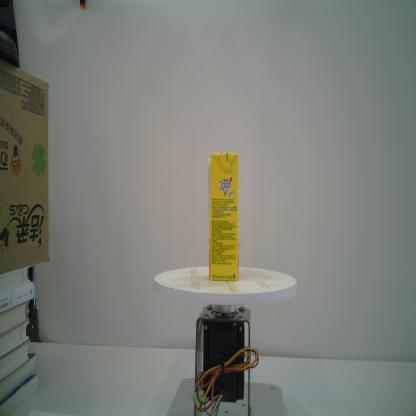Drink: (206, 151, 240, 282)
